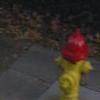Hydrant: (49, 25, 99, 100)
